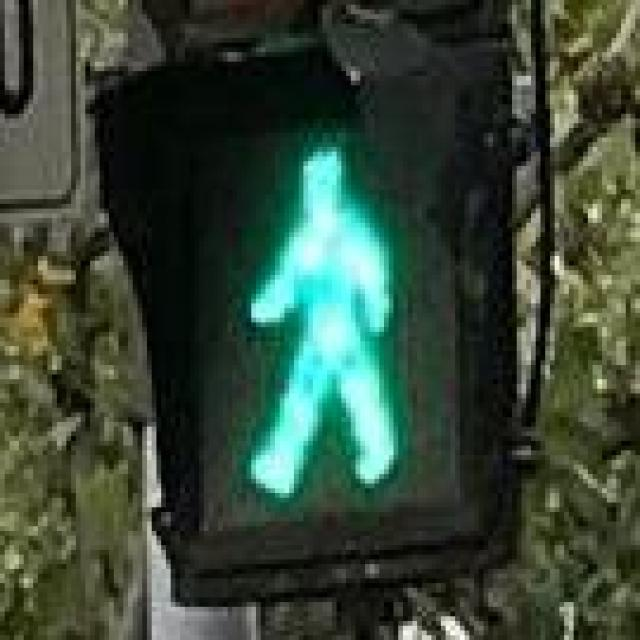green_light: (171, 100, 460, 526)
